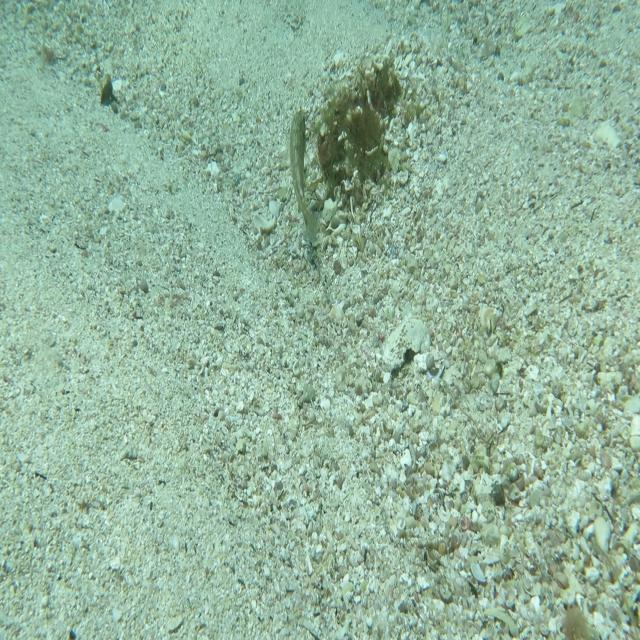AM: (286, 107, 323, 247)
core_nest: (369, 69, 400, 107)
nest: (313, 44, 412, 188)
vegetation: (563, 598, 593, 640), (97, 72, 116, 109)
